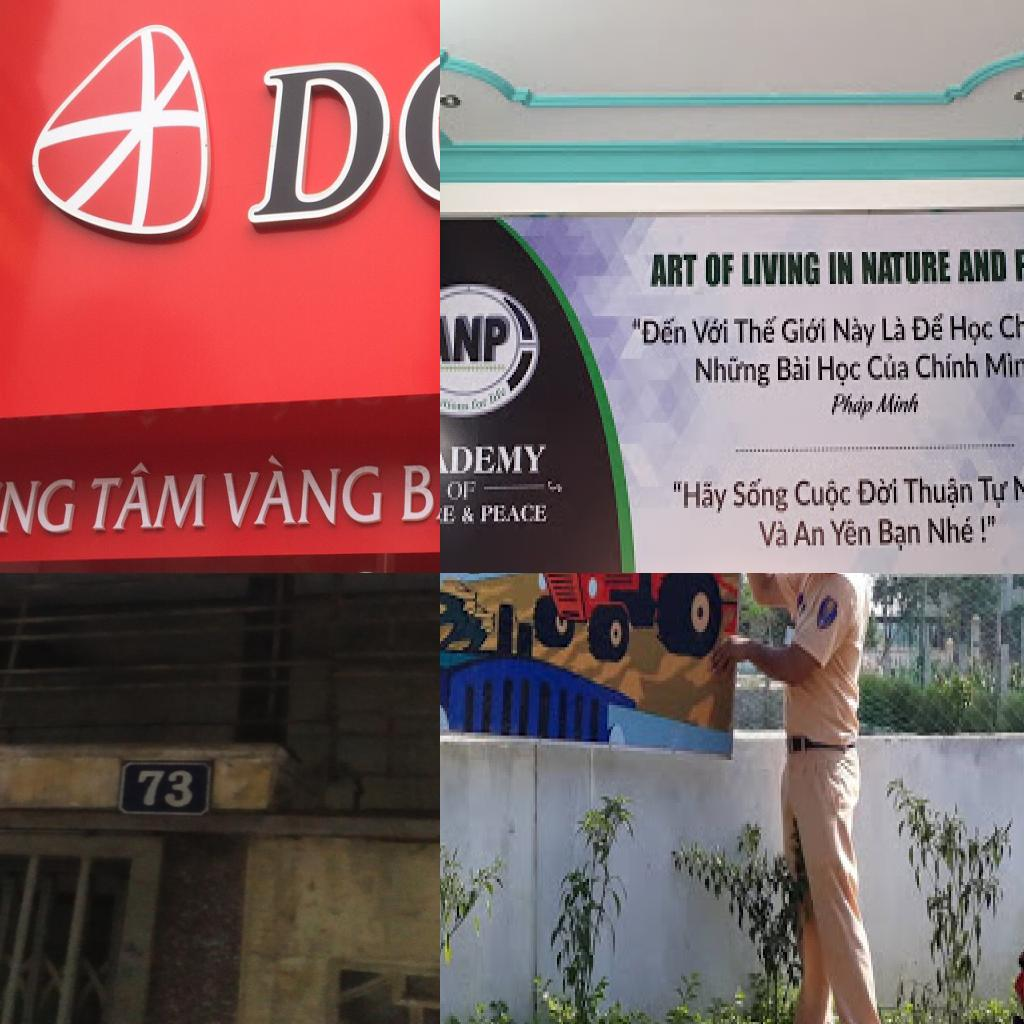text: (222, 0, 440, 328), (221, 456, 388, 531), (84, 463, 212, 537), (440, 436, 552, 484), (0, 476, 81, 539), (440, 305, 516, 369), (856, 244, 956, 287), (690, 348, 774, 399), (736, 244, 824, 287), (395, 458, 440, 538), (902, 473, 978, 516), (664, 471, 728, 521), (912, 348, 984, 385), (794, 473, 854, 516), (812, 348, 864, 396), (728, 476, 792, 513), (870, 516, 922, 561), (630, 308, 688, 348), (476, 500, 548, 532), (642, 249, 702, 287), (750, 513, 794, 564), (956, 246, 1010, 286), (874, 386, 926, 426), (864, 346, 914, 386), (688, 308, 734, 351), (948, 305, 994, 348), (700, 250, 740, 298), (782, 308, 830, 348), (830, 308, 878, 348), (728, 308, 782, 343), (792, 516, 830, 564), (770, 348, 814, 388), (822, 390, 876, 422), (974, 471, 1012, 516), (854, 474, 904, 506), (982, 347, 1024, 385), (830, 519, 874, 553), (912, 306, 948, 346), (824, 249, 856, 284), (878, 308, 910, 343), (996, 308, 1024, 348), (440, 481, 480, 503)
